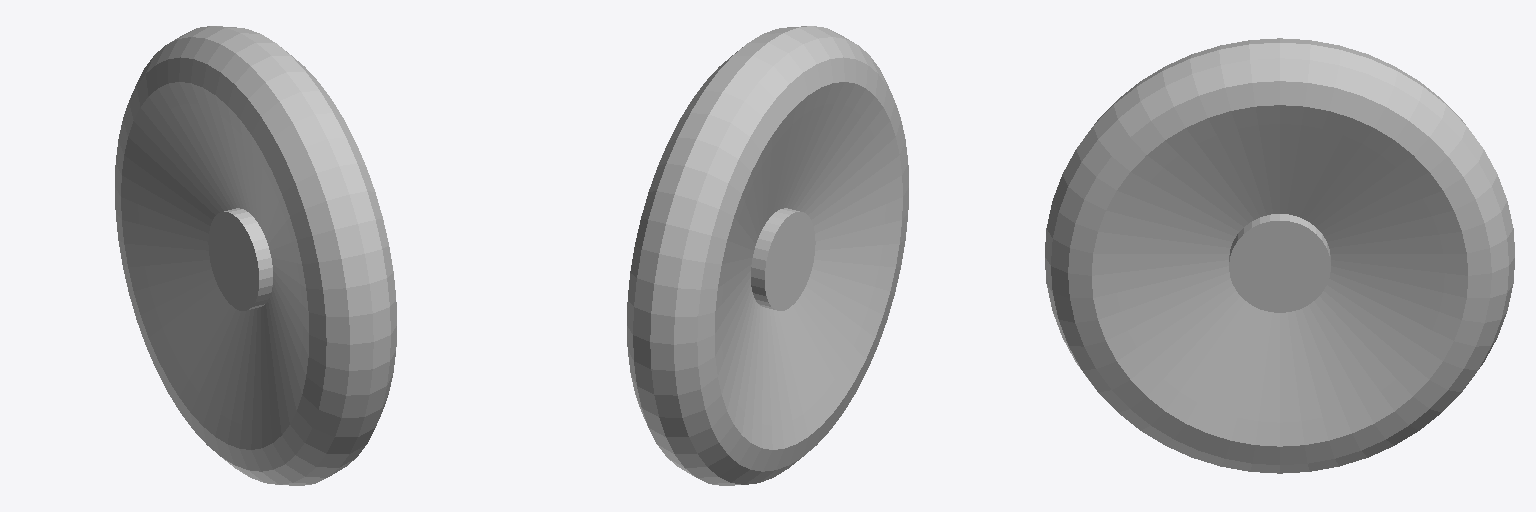
Rendered from BasicWheel.obj.
The picture shows the model from 3 angles: view 1: azimuth 30°, elevation 25°; view 2: azimuth 150°, elevation 25°; view 3: azimuth 270°, elevation 25°; orthographic projection.
Visible parts, largest first — view 1: Cylinder; view 2: Cylinder; view 3: Cylinder.
Boxes of the visible parts, box(x1,y1,x2,y2) form: Cylinder: box(115, 26, 396, 485); Cylinder: box(627, 26, 908, 485); Cylinder: box(1045, 38, 1514, 473).
Size of the model in its own units: 10 by 50 by 50.